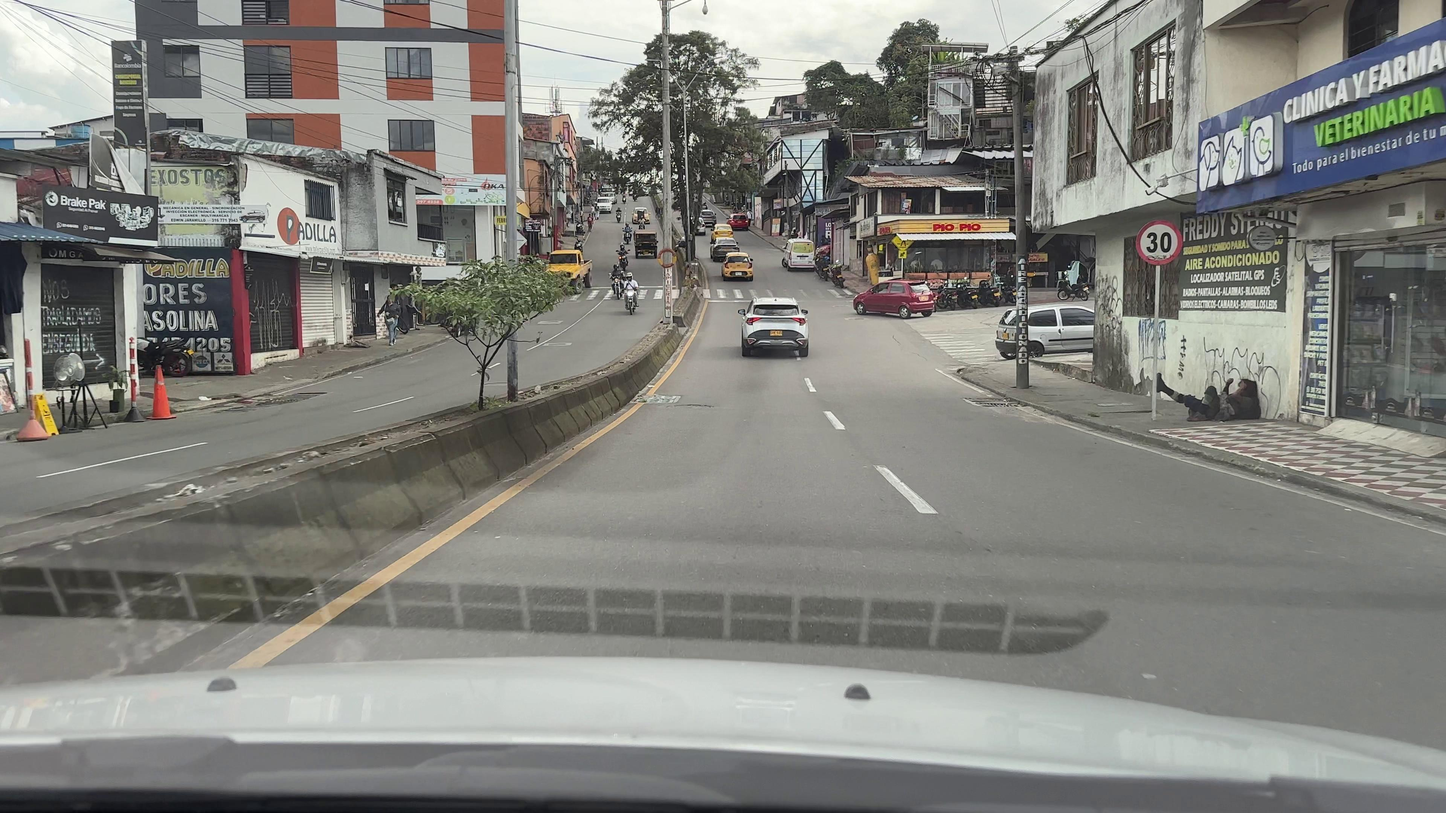registro: (672, 405, 711, 408)
rejilla: (968, 398, 1024, 407), (634, 395, 677, 402)
